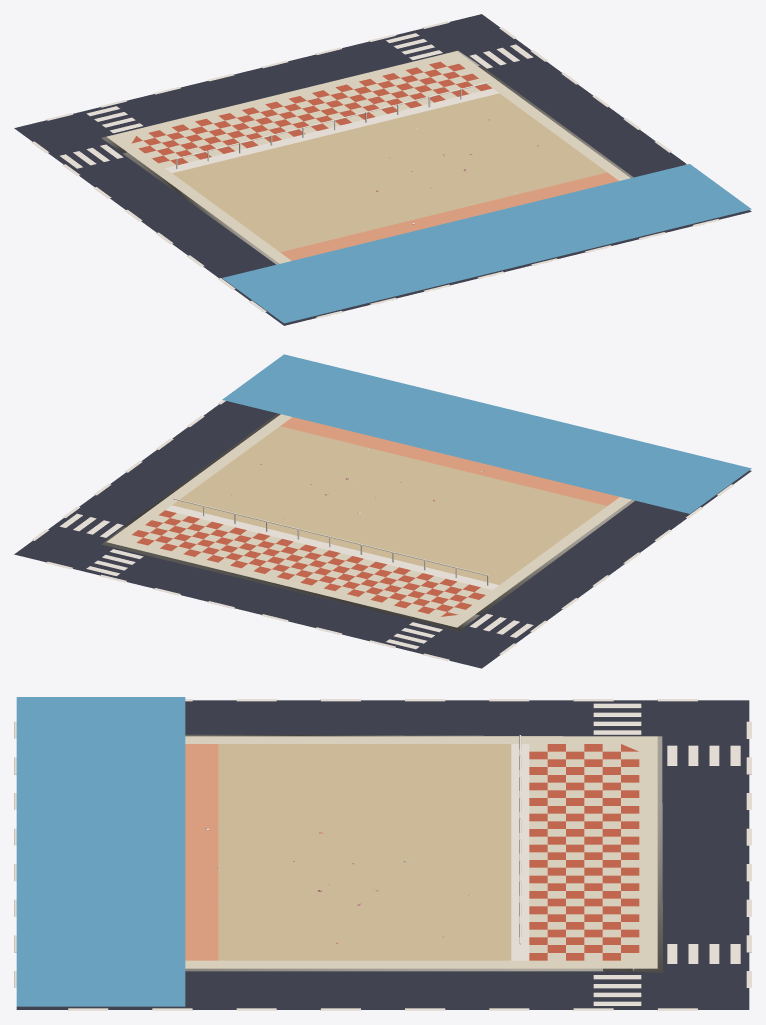
The model's file is tile_beach.glb.
3 renders of one model, top to bottom at view 1: azimuth 30°, elevation 25°; view 2: azimuth 150°, elevation 25°; view 3: azimuth 270°, elevation 25°, orthographic. The views are drawn at different scales.
Visible parts, largest first — view 1: tile_beach; view 2: tile_beach; view 3: tile_beach.
Part boxes in pixels (left/top/right/bottom): tile_beach: left=14, top=14, right=751, bottom=325; tile_beach: left=14, top=354, right=751, bottom=668; tile_beach: left=14, top=697, right=751, bottom=1010.
Bounding box in the file's own units: 40.3 × 1.04 × 40.3.
Materials: 1 (1 with a texture image).
